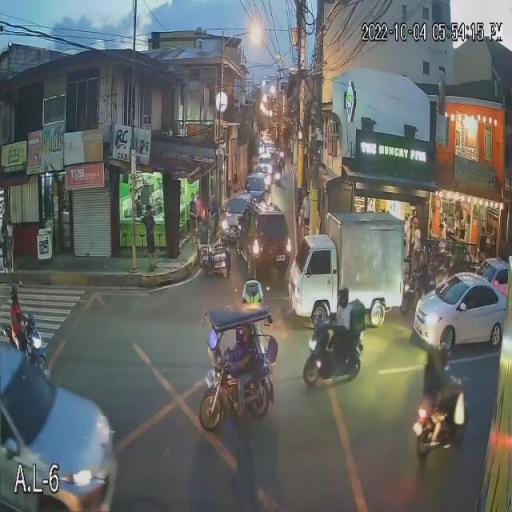helmet: (437, 342, 451, 366), (336, 286, 350, 308), (425, 345, 439, 365), (9, 285, 20, 303)
motorcycle: (412, 388, 470, 457), (298, 334, 364, 386), (0, 322, 49, 368)
rider: (418, 364, 442, 446), (440, 366, 463, 439), (331, 306, 350, 378), (8, 303, 31, 355)
